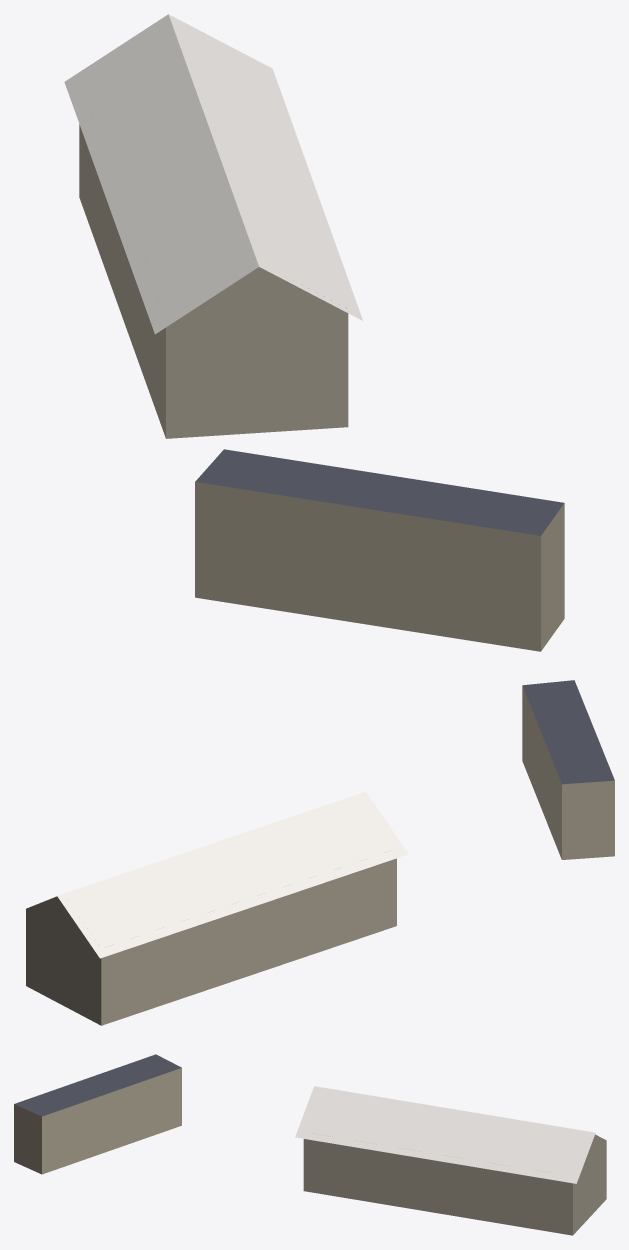
3 renders of one model, top to bottom at view 1: azimuth 30°, elevation 25°; view 2: azimuth 150°, elevation 25°; view 3: azimuth 270°, elevation 25°, orthographic. The views are drawn at different scales.
Parts seen in each view (by area): view 1: tuile; view 2: tuile; view 3: tuile.
Part boxes in pixels (left/top/right/bottom): tuile: left=64, top=14, right=564, bottom=651; tuile: left=26, top=680, right=614, bottom=1025; tuile: left=14, top=1054, right=606, bottom=1235.
Size of the model in its own units: 15.4 by 5.07 by 32.18.
